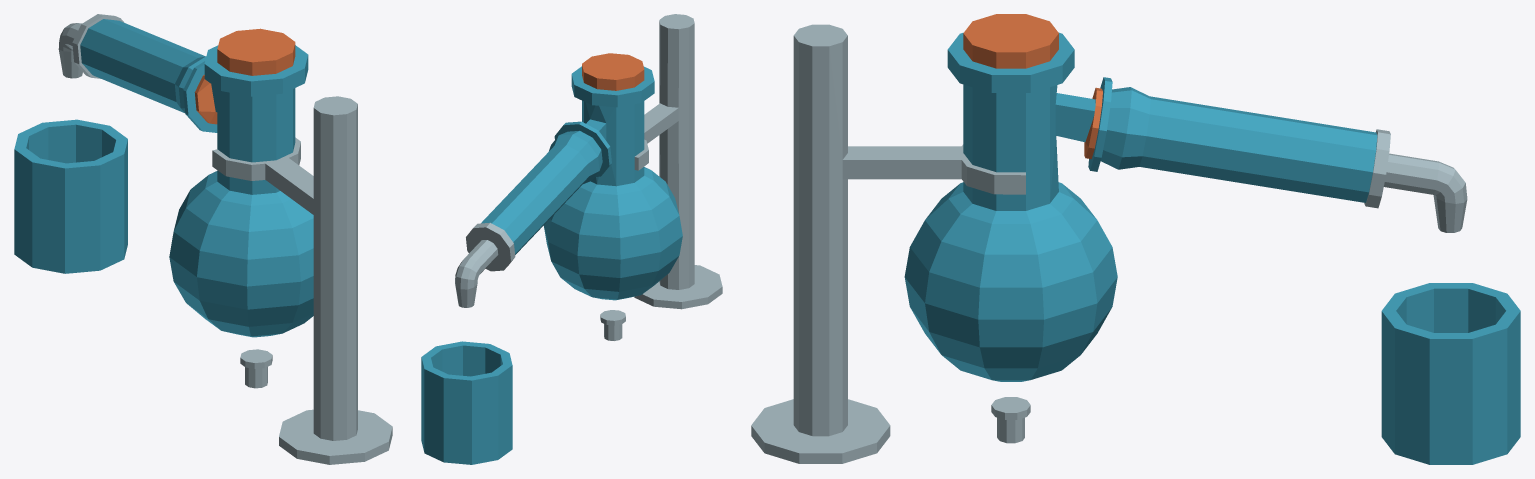
File: Distilirator.fbx
3 renders of one model, left to right at view 1: azimuth 30°, elevation 25°; view 2: azimuth 150°, elevation 25°; view 3: azimuth 270°, elevation 25°, orthographic. The views are drawn at different scales.
Visible parts, largest first — view 1: Distilation; view 2: Distilation; view 3: Distilation.
Boxes of the visible parts, x1,y1,x2,y2 form: Distilation: (14, 14, 392, 464); Distilation: (421, 14, 722, 464); Distilation: (751, 14, 1520, 464).
Bounding box in the file's own units: 291 × 642 × 1106.
